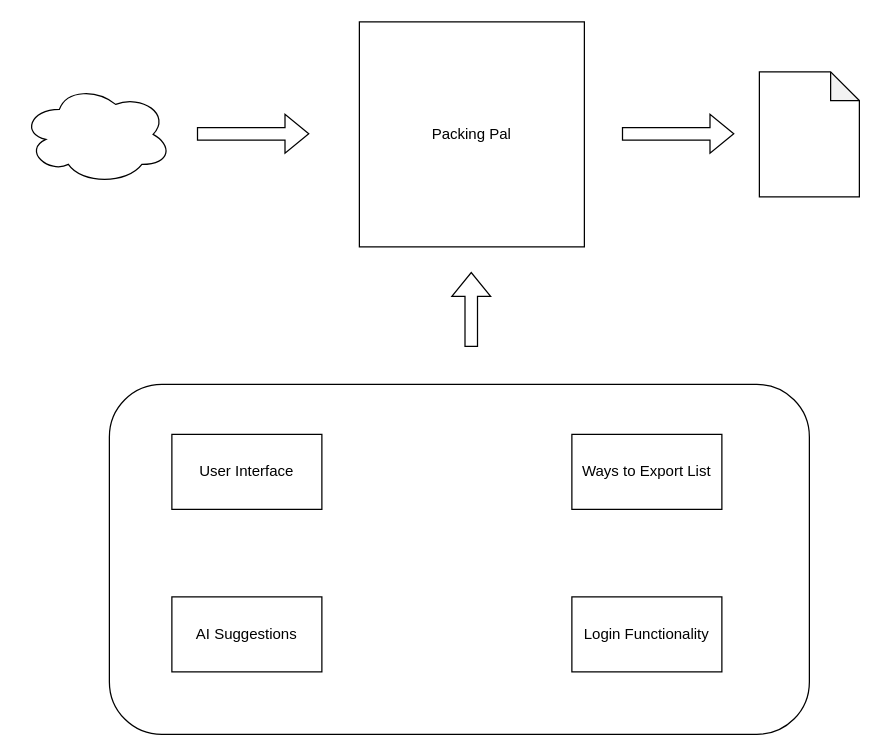
This 881x756 diagram has some shape labels left out. Here are the shapes that lost their labels. From the top down, the centre of each, then its label:
At point 96,133: "Thoughts on Camping Trip".
At point 808,134: "List of items to bring for the trip".
